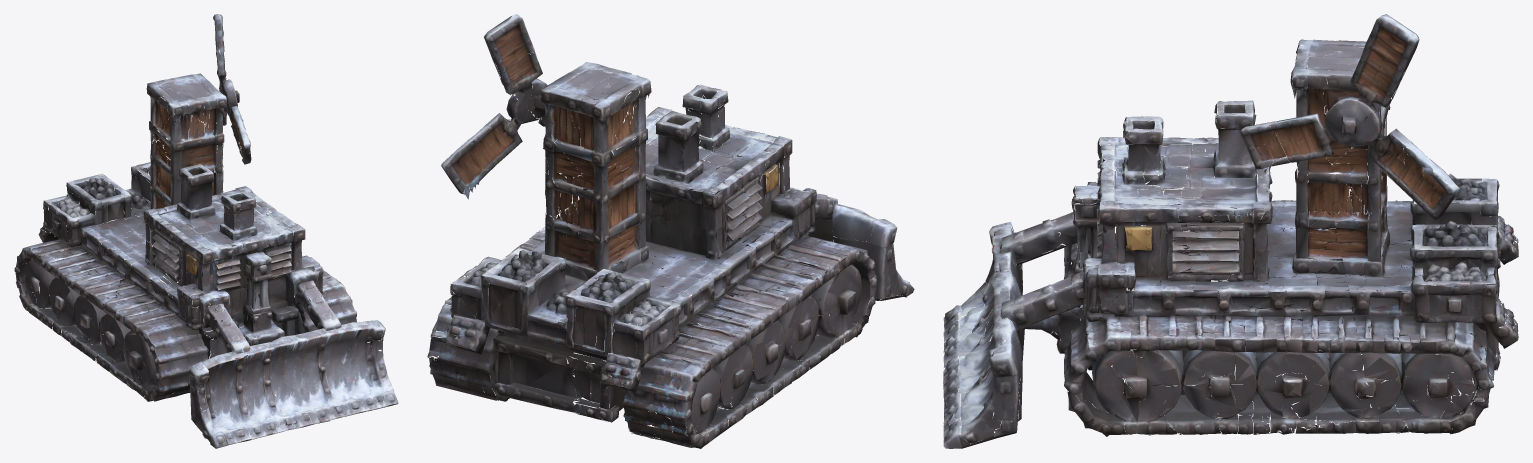
The model's file is stormplough.glb.
3 views of the same model, side by side, from view 1: azimuth 30°, elevation 25°; view 2: azimuth 150°, elevation 25°; view 3: azimuth 270°, elevation 25° (orthographic). The views are drawn at different scales.
Parts seen in each view (by area): view 1: tripo_node_a915195f-b63e-482b-87ca-e47225564cd5; view 2: tripo_node_a915195f-b63e-482b-87ca-e47225564cd5; view 3: tripo_node_a915195f-b63e-482b-87ca-e47225564cd5.
Part boxes in pixels (<box>): tripo_node_a915195f-b63e-482b-87ca-e47225564cd5: <box>14,14,398,448</box>; tripo_node_a915195f-b63e-482b-87ca-e47225564cd5: <box>427,14,914,448</box>; tripo_node_a915195f-b63e-482b-87ca-e47225564cd5: <box>943,14,1518,448</box>.
Bounding box in the file's own units: 0.5874 × 0.7792 × 0.9804.
1 material, 1 textured.
